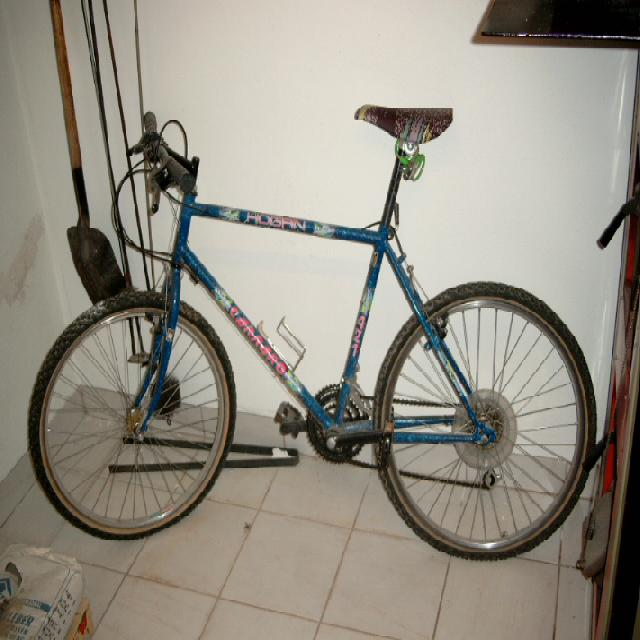bicycle: (27, 103, 597, 560)
